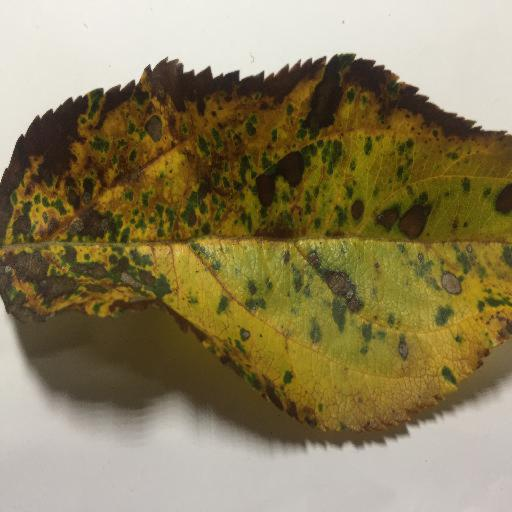Brown_Spot: (1, 47, 512, 455)
